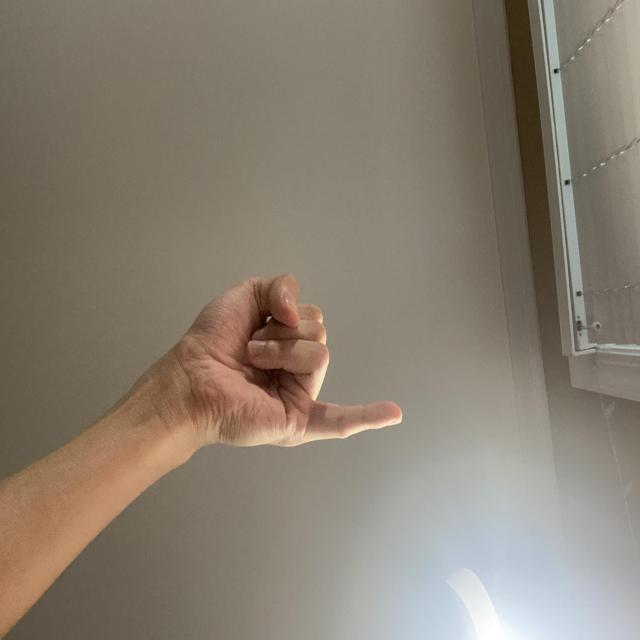I: (362, 312, 501, 638)
